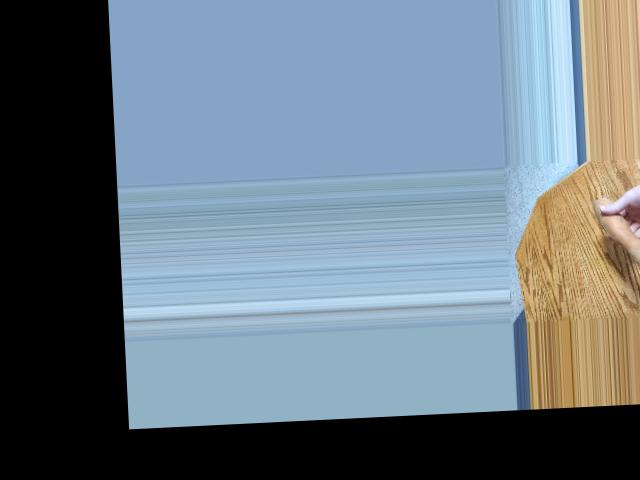sweet_potato: (596, 196, 640, 276)
